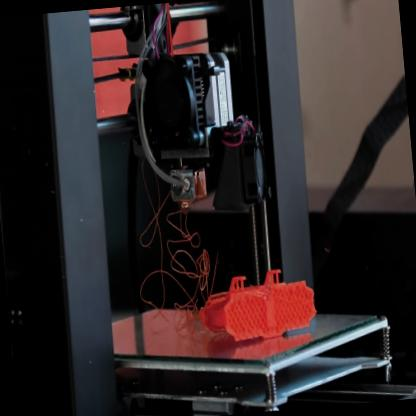fail: (149, 203, 216, 309)
